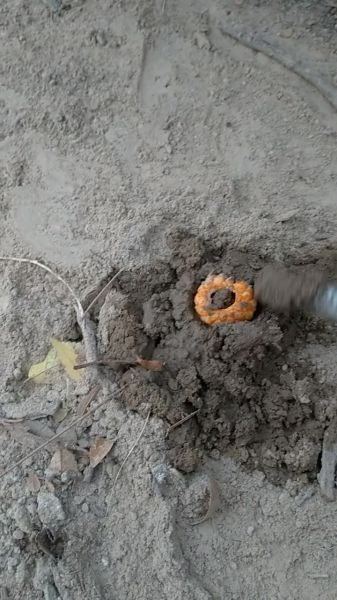eggs: (191, 275, 260, 325)
